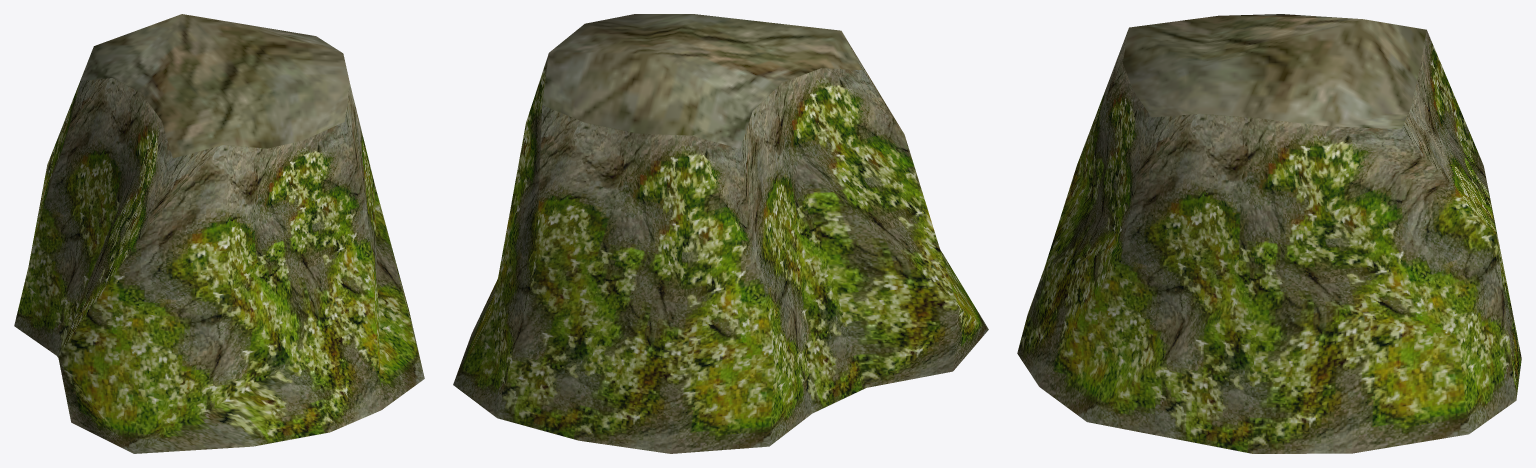
Rendered from rock_liaaba_covered_a2_l2.fbx.
The picture shows the model from 3 angles, left to right: view 1: azimuth 30°, elevation 25°; view 2: azimuth 150°, elevation 25°; view 3: azimuth 270°, elevation 25°; orthographic projection. The views are drawn at different scales.
Visible parts, largest first — view 1: mesh_node; view 2: mesh_node; view 3: mesh_node.
Boxes of the visible parts, bbox=[...] form: mesh_node: bbox=[14, 14, 424, 453]; mesh_node: bbox=[453, 14, 988, 453]; mesh_node: bbox=[1017, 14, 1521, 453].
Size of the model in its own units: 4.89 by 3.75 by 5.07.
